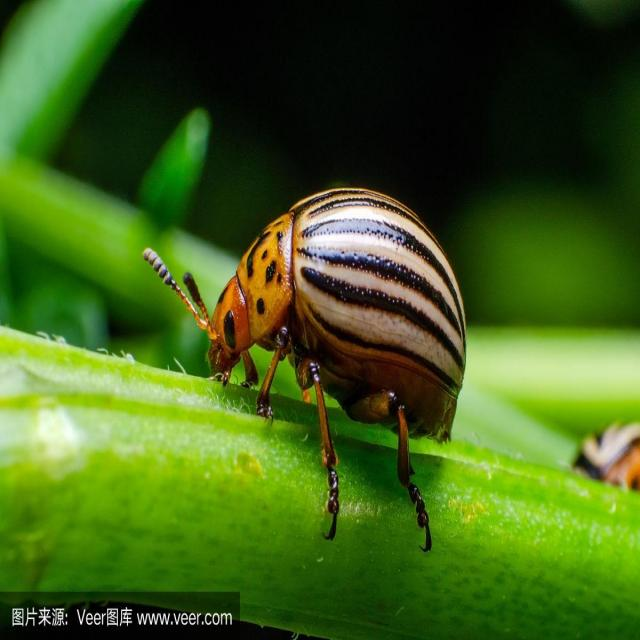ShuCaiHuaBanChong-Grown-: (188, 164, 496, 476)
